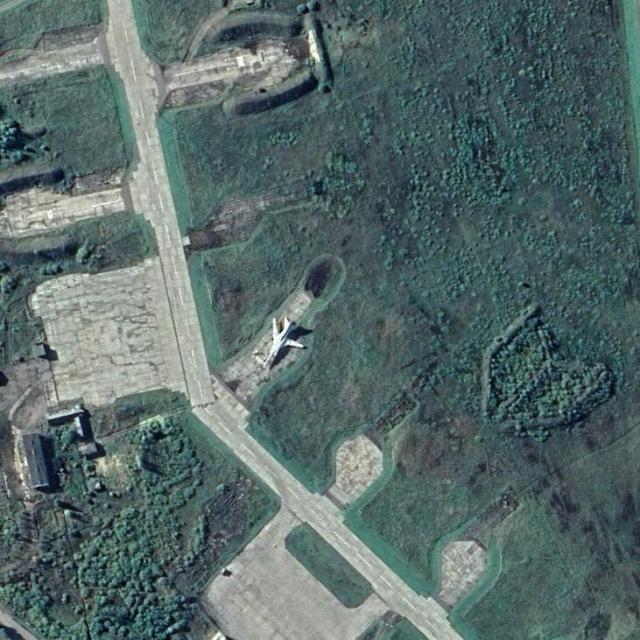fighter jet: (252, 311, 300, 371)
